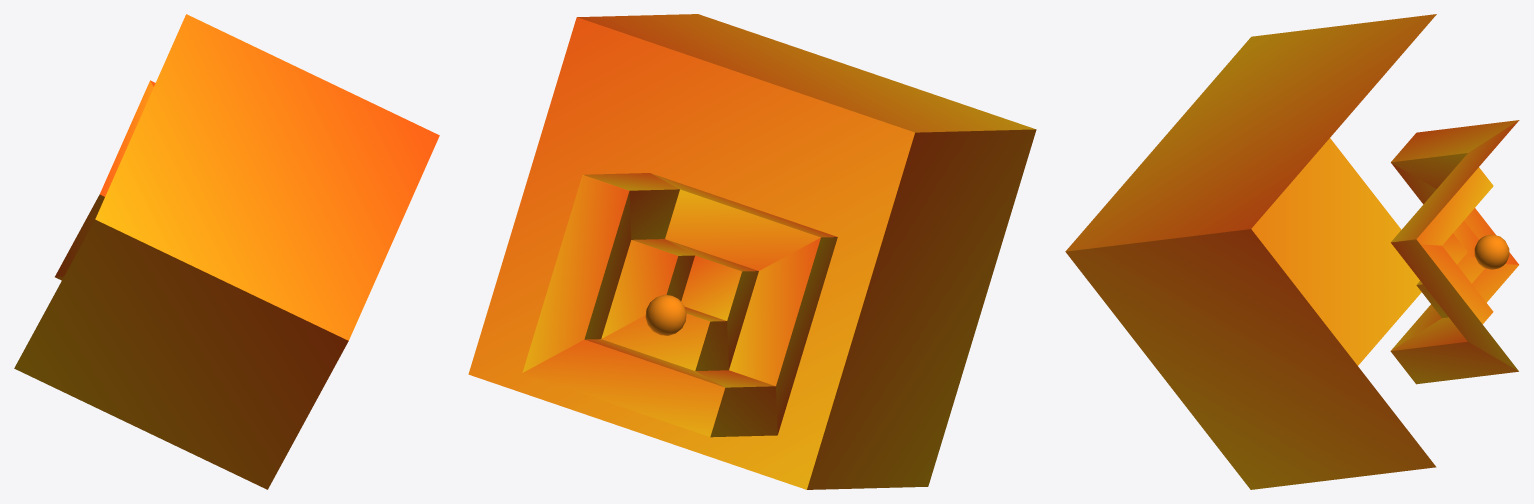
Rendered from boxesOrange.glb.
3 renders of one model, left to right at view 1: azimuth 30°, elevation 25°; view 2: azimuth 150°, elevation 25°; view 3: azimuth 270°, elevation 25°, orthographic. The views are drawn at different scales.
Parts seen in each view (by area): view 1: Object_22; view 2: Object_22; view 3: Object_22.
Boxes of the visible parts, box(x1,y1,x2,y2) form: Object_22: box(14, 14, 439, 489); Object_22: box(468, 14, 1036, 489); Object_22: box(1065, 14, 1519, 489).
Size of the model in its own units: 7.76 by 8.96 by 7.75.
Materials: 3 (3 with a texture image).
